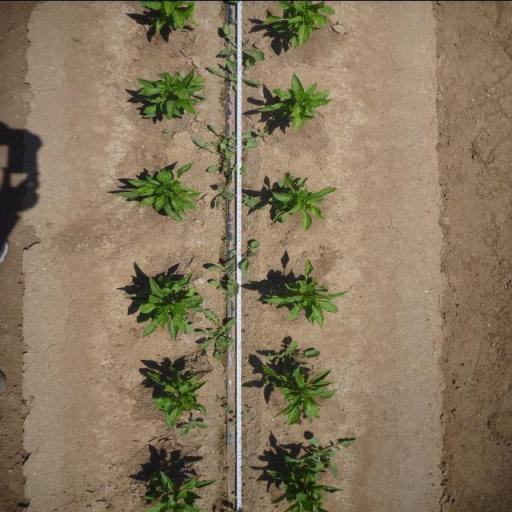plant: (264, 258, 348, 328), (112, 160, 200, 222), (264, 170, 338, 230), (126, 272, 194, 337), (259, 72, 331, 131), (270, 364, 338, 426), (260, 0, 337, 46), (270, 461, 337, 512), (146, 363, 205, 419), (140, 70, 206, 120), (139, 469, 214, 512), (133, 0, 202, 35), (262, 378, 278, 392)
weed: (190, 135, 256, 173), (195, 310, 236, 360), (305, 434, 357, 471), (205, 122, 258, 156), (216, 175, 266, 211), (207, 58, 262, 90), (219, 23, 265, 60), (262, 340, 320, 369), (208, 265, 250, 294), (231, 238, 261, 271), (179, 416, 209, 438), (210, 278, 228, 292), (230, 412, 246, 426), (232, 163, 248, 175), (258, 124, 269, 138), (234, 489, 246, 500), (214, 394, 227, 402), (218, 90, 227, 101), (222, 292, 232, 301), (216, 78, 230, 84), (223, 466, 231, 472), (220, 435, 228, 441), (223, 404, 231, 410), (240, 465, 247, 471), (224, 236, 230, 243), (218, 109, 225, 115), (242, 454, 248, 460), (220, 252, 226, 258), (161, 128, 169, 132), (224, 364, 227, 374), (295, 420, 301, 425), (234, 18, 238, 24), (243, 157, 248, 161), (282, 242, 288, 245)
